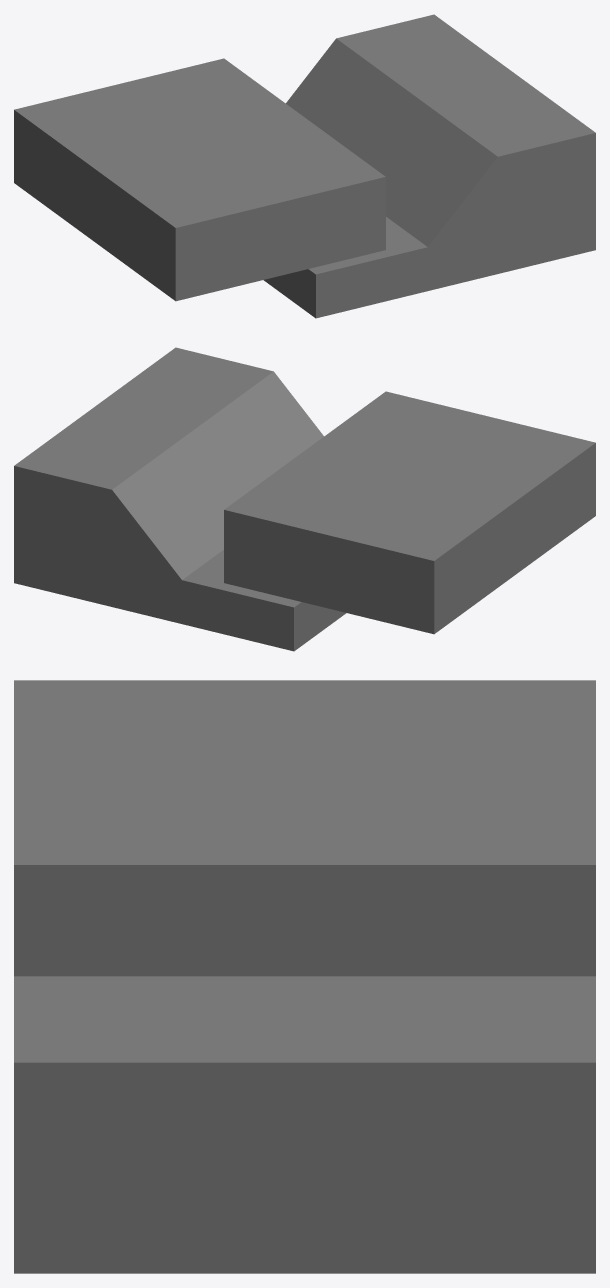
File: С11_Кромки.glb
3 views of the same model, one above another, from view 1: azimuth 30°, elevation 25°; view 2: azimuth 150°, elevation 25°; view 3: azimuth 270°, elevation 25° (orthographic). The views are drawn at different scales.
Visible parts, largest first — view 1: node_id3; view 2: node_id3; view 3: node_id3.
Part boxes in pixels (bbox=[...]): node_id3: bbox=[14, 14, 595, 318]; node_id3: bbox=[14, 347, 595, 651]; node_id3: bbox=[14, 680, 595, 1273].
Size of the model in its own units: 0.512 by 0.1451 by 0.3413.
Materials: 1 (1 with a texture image).
